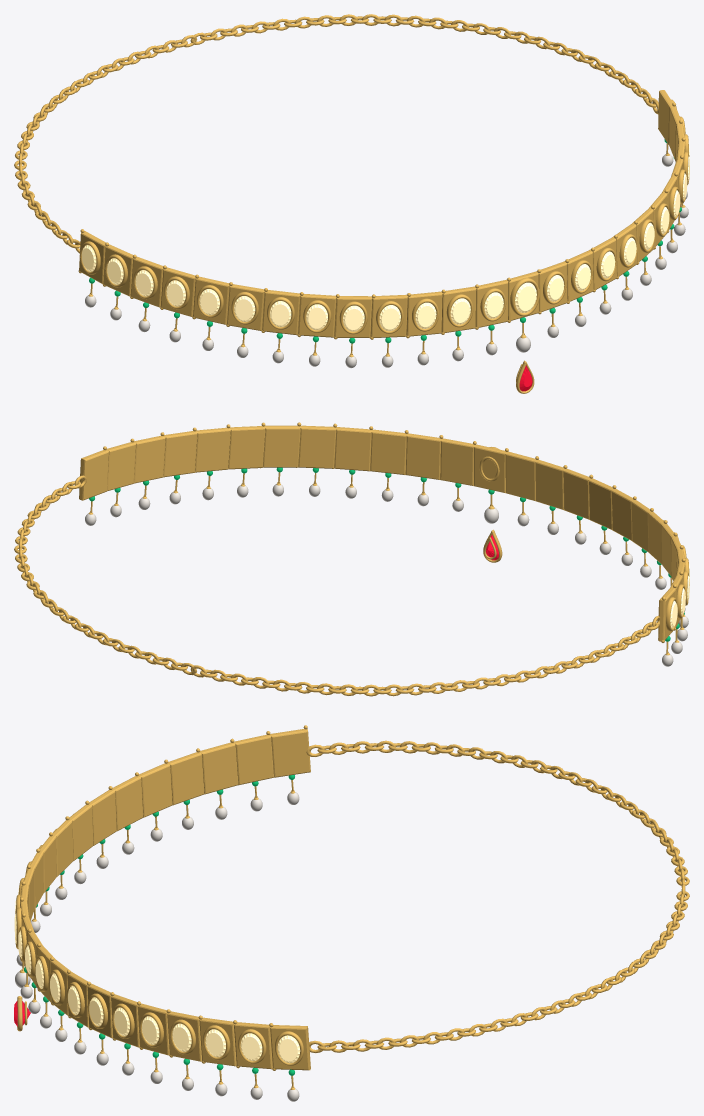
The model's file is choker-kundan.glb.
3 renders of one model, top to bottom at view 1: azimuth 30°, elevation 25°; view 2: azimuth 150°, elevation 25°; view 3: azimuth 270°, elevation 25°, orthographic. The views are drawn at different scales.
Parts seen in each view (by area): view 1: choker-kundan_gold22k, choker-kundan_kundan, choker-kundan_pearl, choker-kundan_emerald; view 2: choker-kundan_gold22k, choker-kundan_pearl, choker-kundan_emerald; view 3: choker-kundan_gold22k, choker-kundan_kundan, choker-kundan_pearl, choker-kundan_emerald.
Boxes of the visible parts, left/top/right/bottom form: choker-kundan_gold22k: left=14, top=14, right=689, bottom=393; choker-kundan_kundan: left=81, top=127, right=689, bottom=331; choker-kundan_pearl: left=85, top=154, right=688, bottom=368; choker-kundan_emerald: left=89, top=139, right=681, bottom=343; choker-kundan_gold22k: left=14, top=422, right=689, bottom=696; choker-kundan_pearl: left=85, top=484, right=688, bottom=666; choker-kundan_emerald: left=89, top=467, right=684, bottom=641; choker-kundan_gold22k: left=15, top=725, right=689, bottom=1089; choker-kundan_kundan: left=14, top=886, right=300, bottom=1063; choker-kundan_pearl: left=15, top=792, right=299, bottom=1101; choker-kundan_emerald: left=24, top=774, right=294, bottom=1075.
Size of the model in its own units: 11.83 by 2.67 by 11.11.
